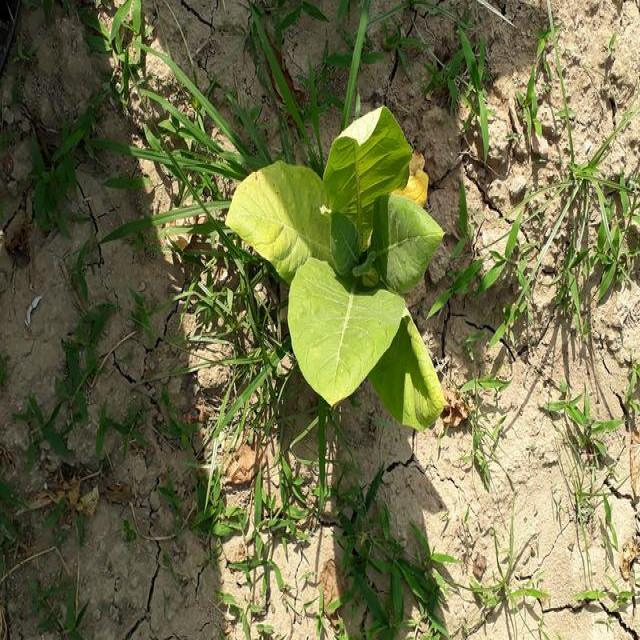crop: (234, 106, 442, 420)
